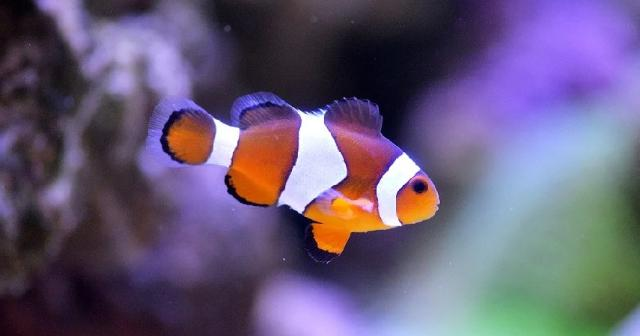Mulut: (426, 185, 454, 226)
Sirip Anal: (217, 166, 280, 216)
Sirip Dada: (298, 215, 354, 274), (310, 179, 368, 229)
Sirip Ekor: (129, 84, 217, 186)
Sirip Punggung: (222, 74, 390, 144)
